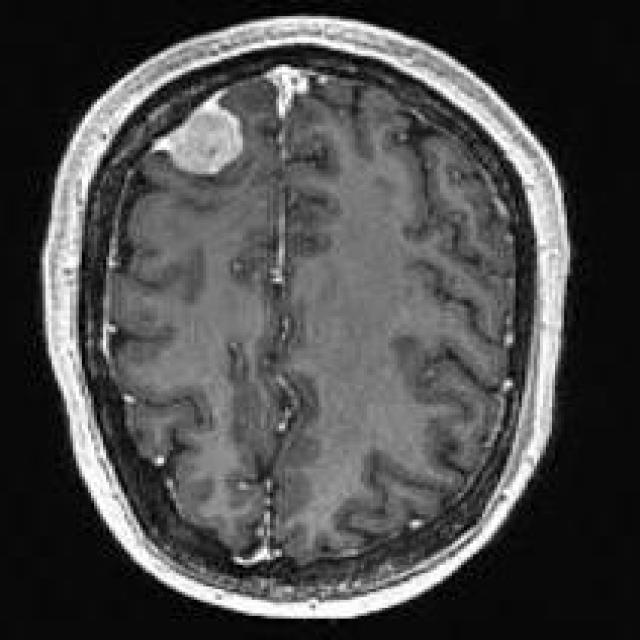Tumor: (146, 82, 248, 178)
